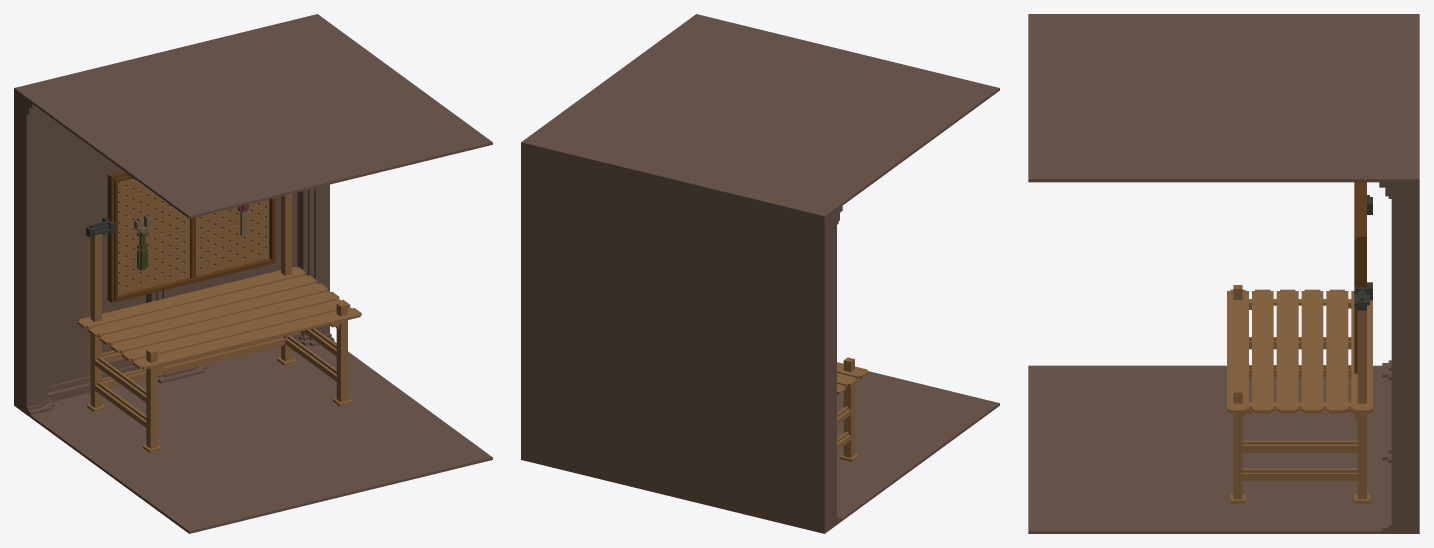
Rendered from cave-c5.obj.
3 views of the same model, side by side, from view 1: azimuth 30°, elevation 25°; view 2: azimuth 150°, elevation 25°; view 3: azimuth 270°, elevation 25° (orthographic). The views are drawn at different scales.
Bounding box in the file's own units: 126 × 126 × 126.
1 material, 1 textured.
